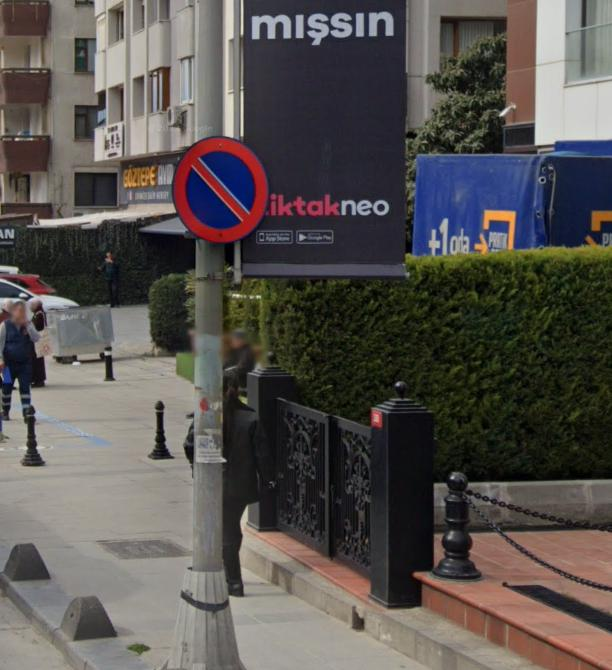nopark: (179, 136, 266, 243)
